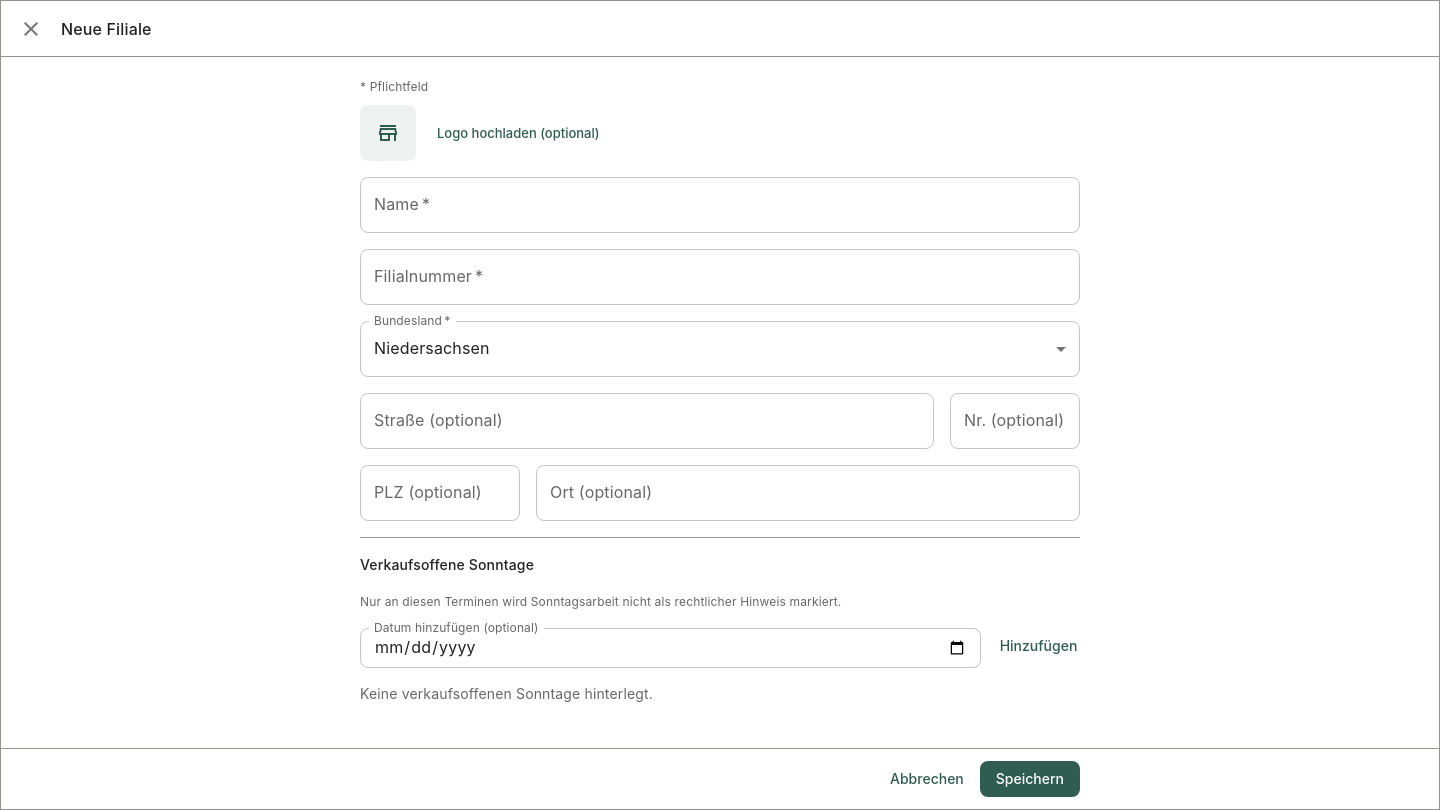
Scenario: BranchDialog › shows both missing fields, focuses Name and saves nothing on an empty form
Click the button "Speichern": x=1030, y=779 [980,760,1080,797]
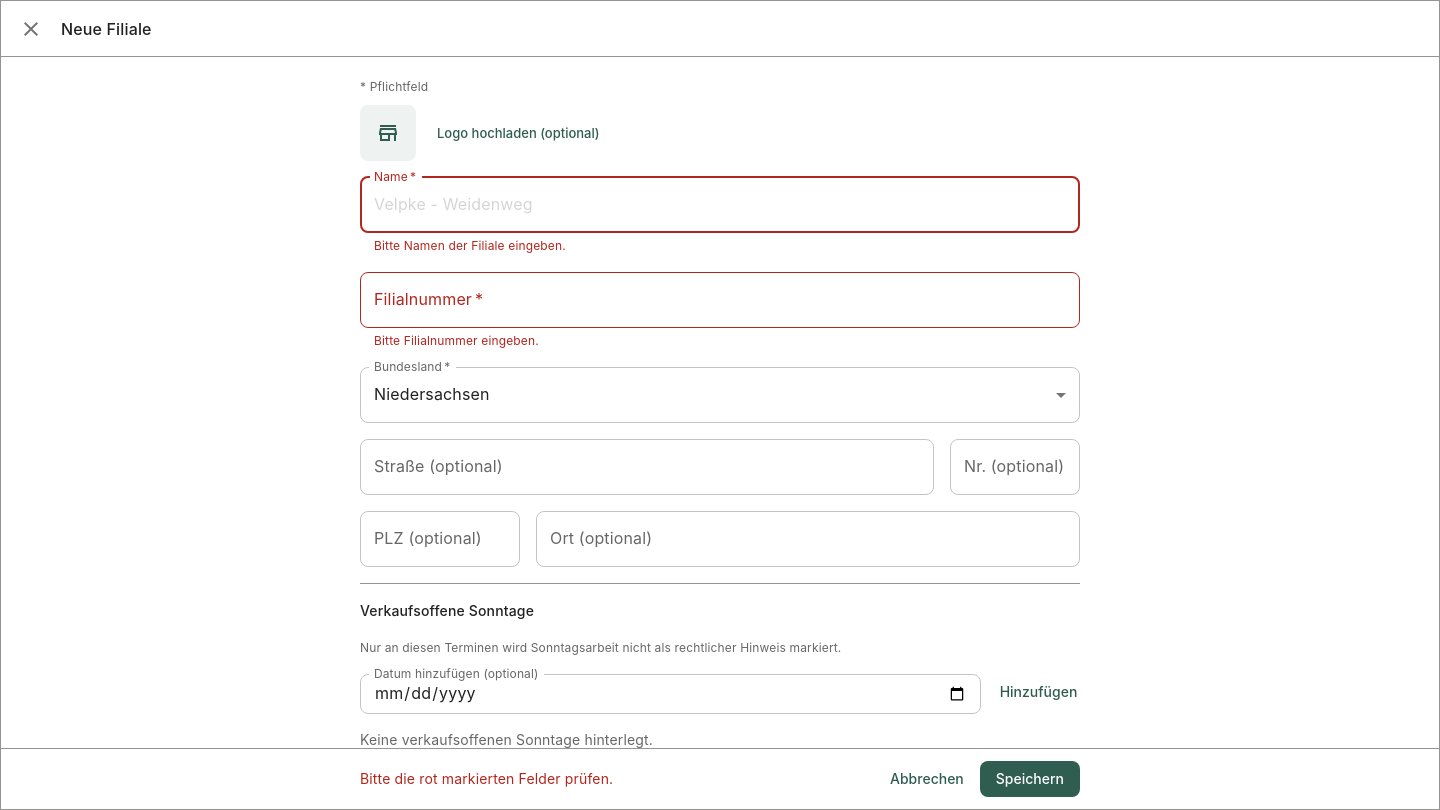
Expected: the text "Bitte Namen der Filiale eingeben." is shown, [374,238,566,253]
Expected: the text "Bitte Filialnummer eingeben." is shown, [374,333,539,348]
